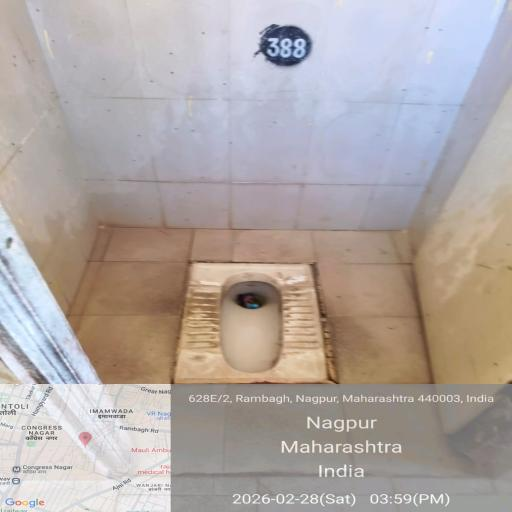clean_floor: (4, 11, 512, 250)
clean_indian: (165, 250, 348, 398)
partial_dirty_floor: (8, 341, 466, 512)
